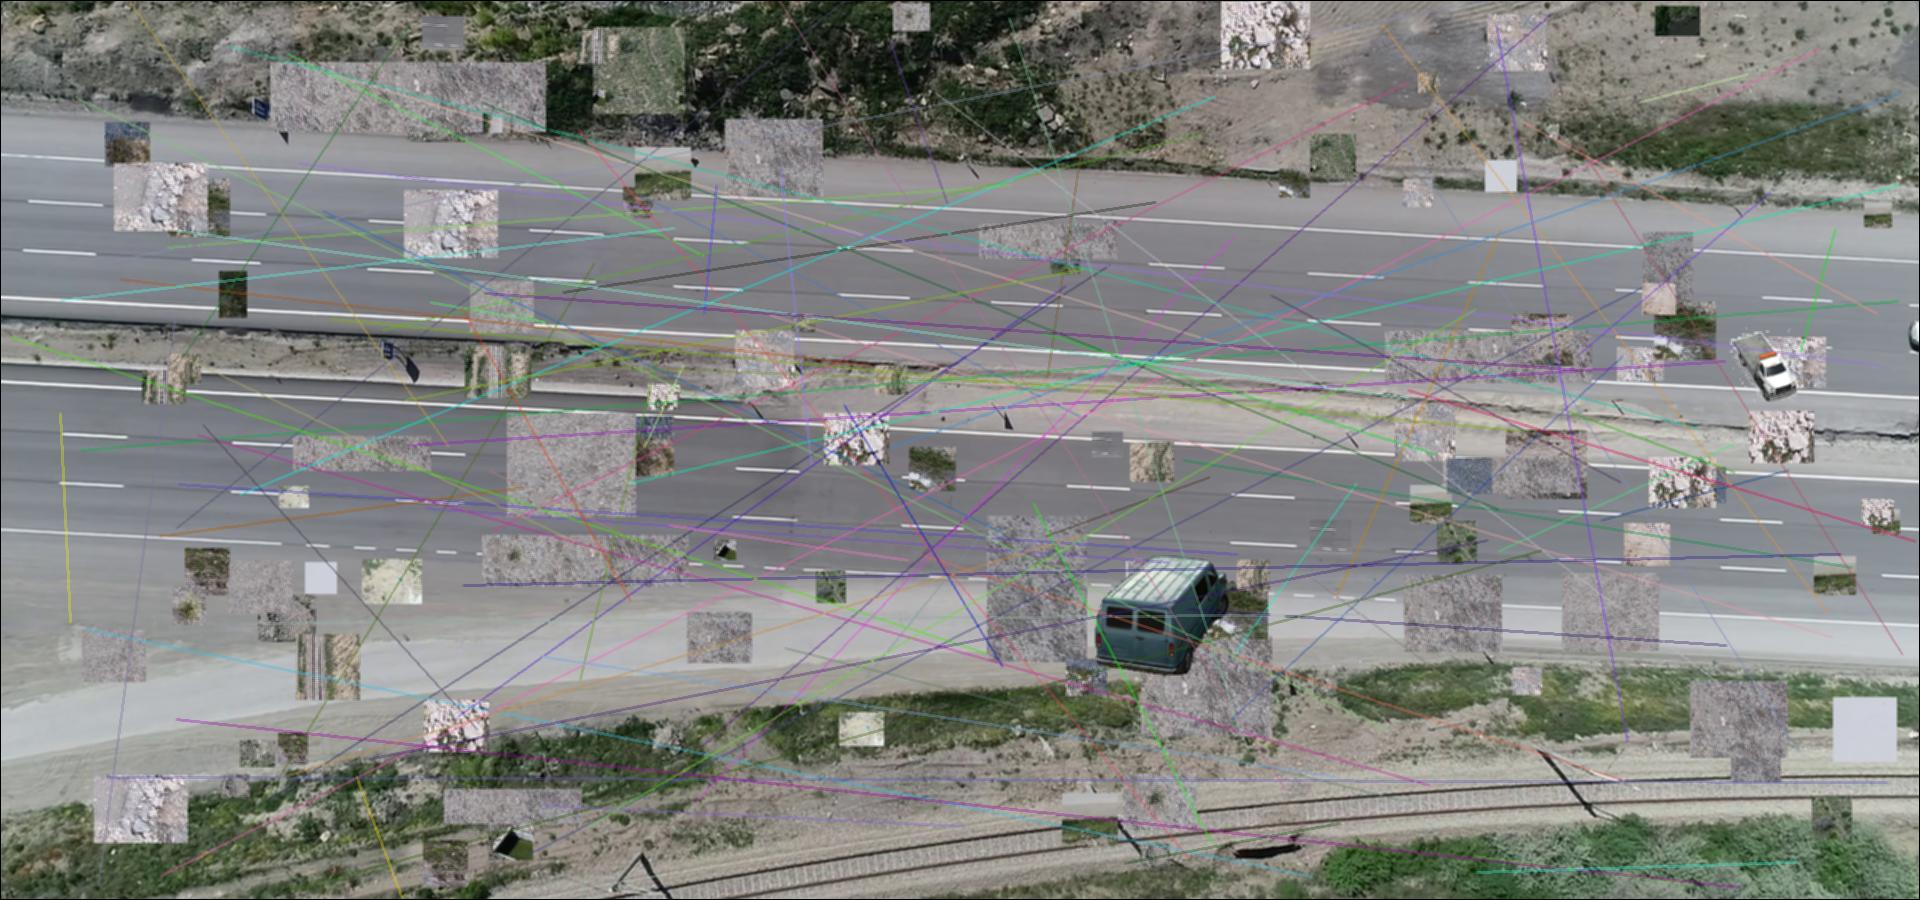arac: (1091, 549, 1233, 675), (1729, 328, 1802, 400)
